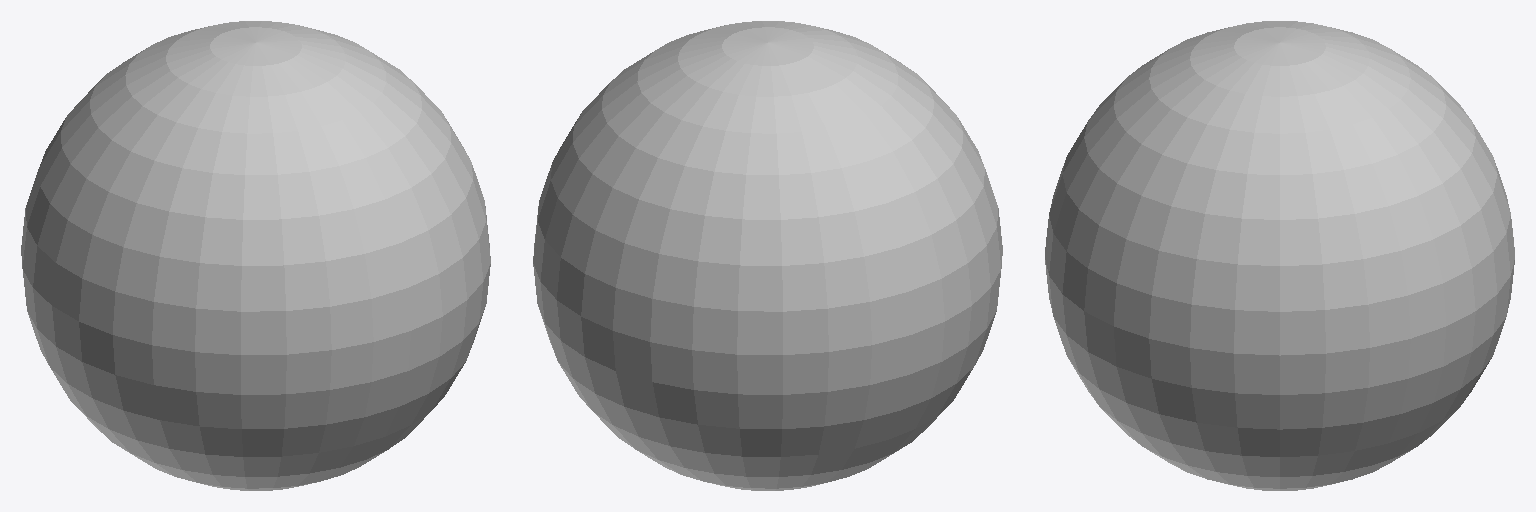
Rendered from LUZ.obj.
3 views of the same model, side by side, from view 1: azimuth 30°, elevation 25°; view 2: azimuth 150°, elevation 25°; view 3: azimuth 270°, elevation 25° (orthographic).
Visible parts, largest first — view 1: LUZ_Sphere; view 2: LUZ_Sphere; view 3: LUZ_Sphere.
Part boxes in pixels (bbox=[...]): LUZ_Sphere: bbox=[21, 21, 490, 490]; LUZ_Sphere: bbox=[533, 21, 1002, 490]; LUZ_Sphere: bbox=[1045, 21, 1514, 490].
Size of the model in its own units: 0.9864 by 0.9864 by 0.9864.